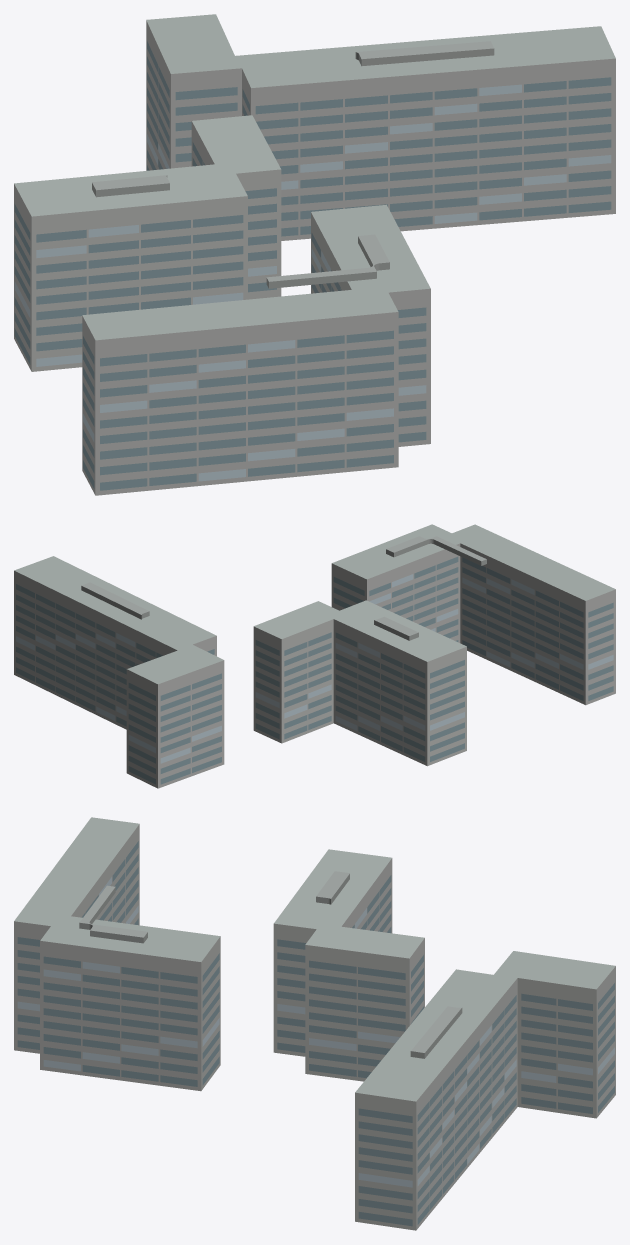
File: apt-a13382106.glb
3 views of the same model, one above another, from view 1: azimuth 30°, elevation 25°; view 2: azimuth 150°, elevation 25°; view 3: azimuth 270°, elevation 25° (orthographic). The views are drawn at different scales.
Parts seen in each view (by area): view 1: apt-a13382106; view 2: apt-a13382106; view 3: apt-a13382106.
Boxes of the visible parts, box(x1,y1,x2,y2) form: apt-a13382106: box(14, 14, 615, 495); apt-a13382106: box(14, 524, 615, 788); apt-a13382106: box(14, 817, 615, 1230).
Bounding box in the file's own units: 144 × 31.87 × 129.
